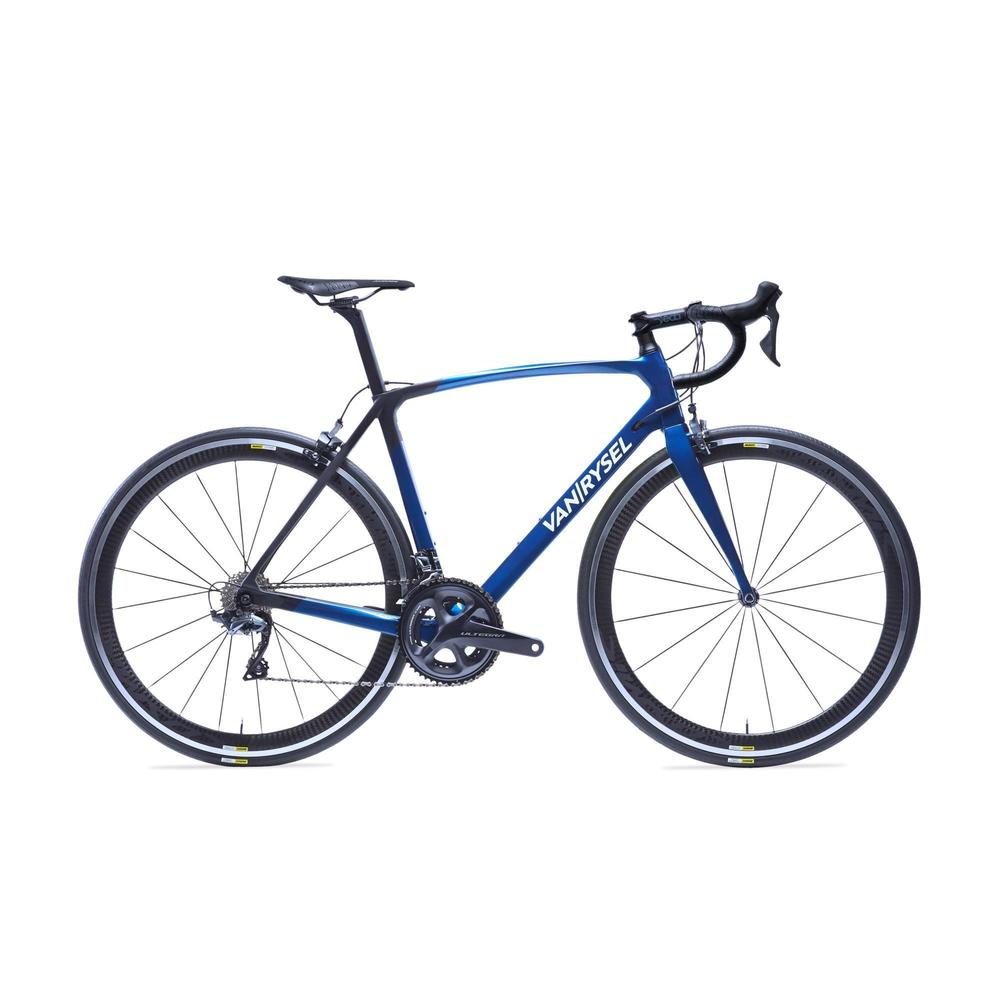RoadBike: (93, 282, 931, 772)
